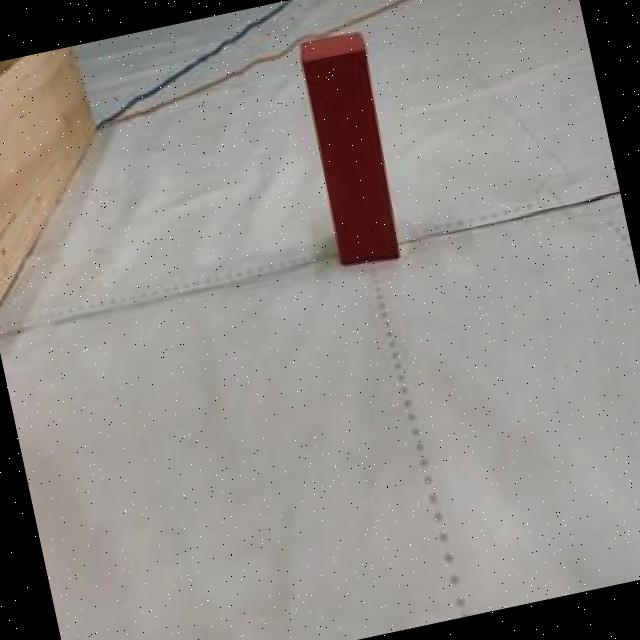redbox: (296, 26, 408, 269)
